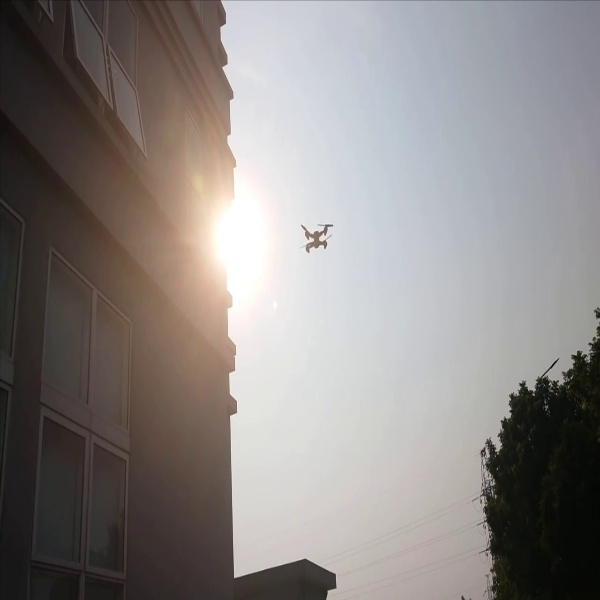drone: (288, 213, 337, 261)
